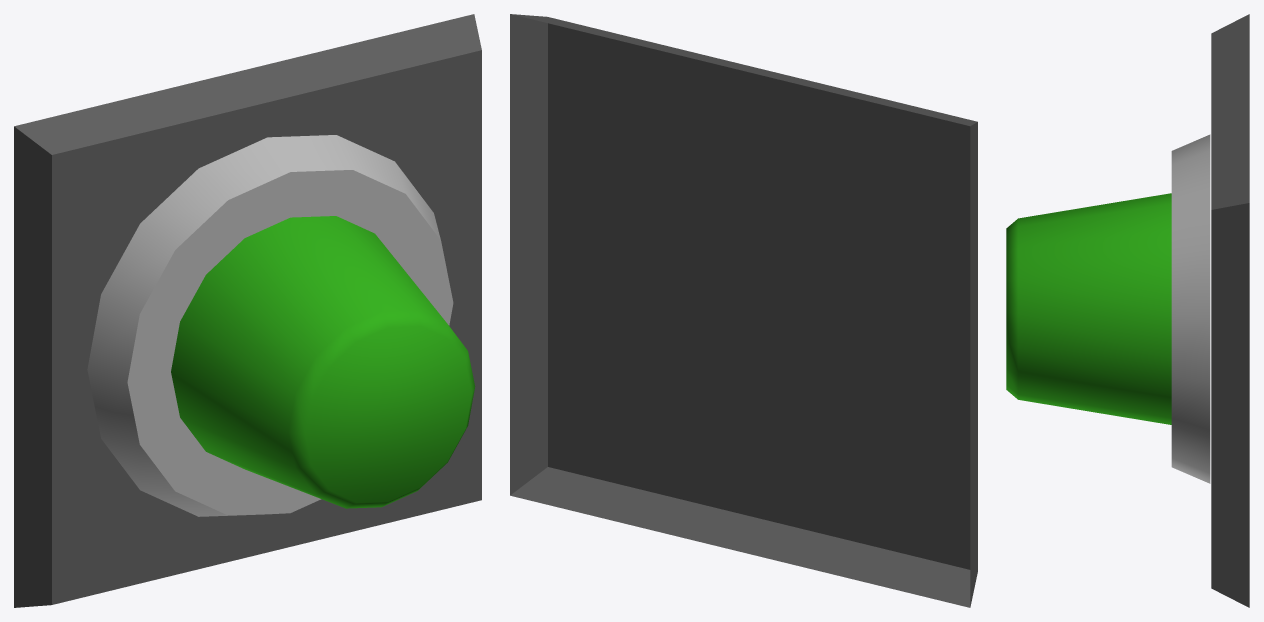
Rendered from panicLightGreen.fbx.
3 views of the same model, side by side, from view 1: azimuth 30°, elevation 25°; view 2: azimuth 150°, elevation 25°; view 3: azimuth 270°, elevation 25° (orthographic). The views are drawn at different scales.
Visible parts, largest first — view 1: Panic Light - Green; view 2: Panic Light - Green; view 3: Panic Light - Green.
Part boxes in pixels (box(x1,y1,x2,y2)): Panic Light - Green: box(14, 14, 481, 607); Panic Light - Green: box(510, 14, 977, 607); Panic Light - Green: box(1006, 14, 1249, 607).
Size of the model in its own units: 47.56 by 25.86 by 47.56.
